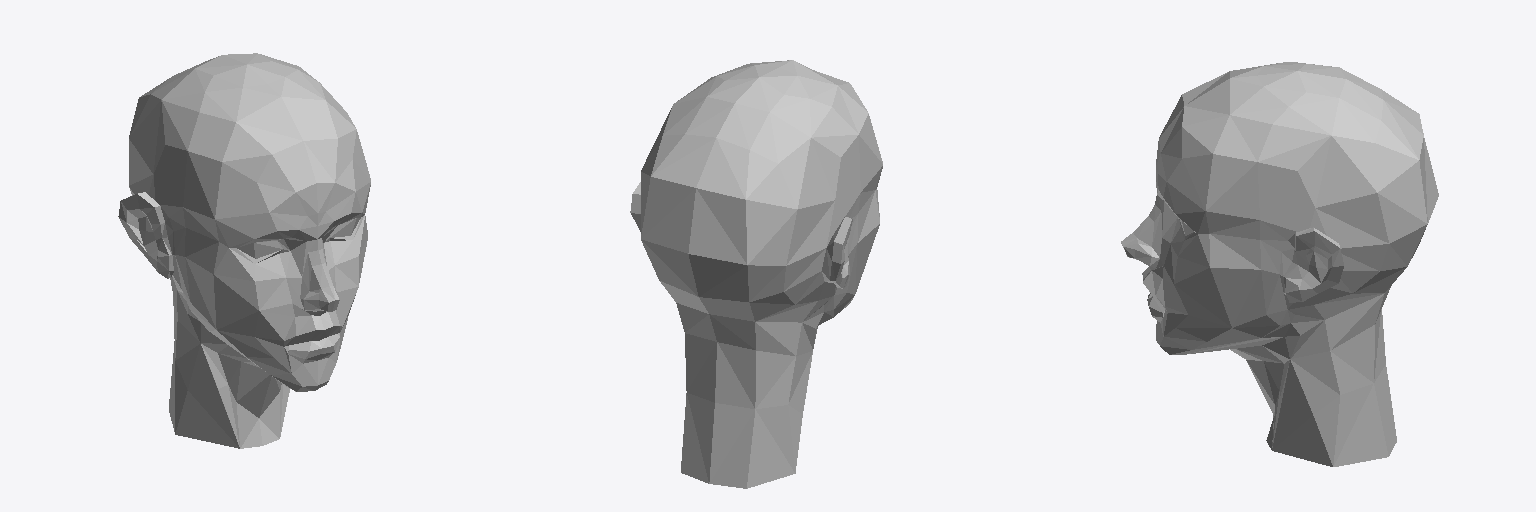
Rendered from head.obj.
The picture shows the model from 3 angles: view 1: azimuth 30°, elevation 25°; view 2: azimuth 150°, elevation 25°; view 3: azimuth 270°, elevation 25°; orthographic projection.
Visible parts, largest first — view 1: low_poly_head.001_Cube.002; view 2: low_poly_head.001_Cube.002; view 3: low_poly_head.001_Cube.002.
Part boxes in pixels (x1,y1,x2,y2): low_poly_head.001_Cube.002: (118,53,370,448); low_poly_head.001_Cube.002: (630,60,882,488); low_poly_head.001_Cube.002: (1121,62,1438,466).
Bounding box in the file's own units: 0.2718 × 0.4562 × 0.3557.